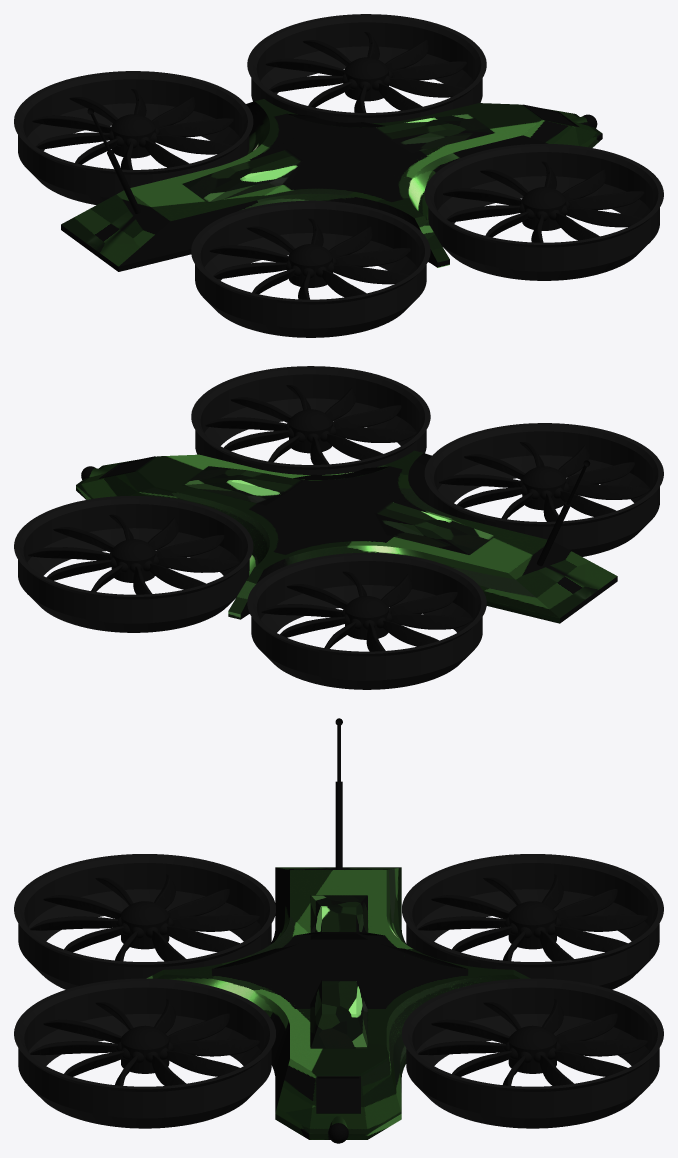
File: parrot-drone.glb
3 renders of one model, top to bottom at view 1: azimuth 30°, elevation 25°; view 2: azimuth 150°, elevation 25°; view 3: azimuth 270°, elevation 25°, orthographic. The views are drawn at different scales.
Visible parts, largest first — view 1: camo_body1_2, motor_props.003_10, motor_props_8, motor_props.002_11, motor_props.001_9, camo_body4_5, camo_body3_4, camo_body_antenna_6, camo_body2_3; view 2: camo_body1_2, motor_props.002_11, motor_props.001_9, motor_props.003_10, motor_props_8, camo_body4_5, camo_body3_4, camo_body_antenna_6; view 3: camo_body1_2, motor_props.001_9, motor_props_8, motor_props.002_11, motor_props.003_10, camo_body3_4, camo_body4_5, camo_body_antenna_6, camo_body2_3.
Boxes of the visible parts, bbox=[...] form: camo_body1_2: bbox=[61, 99, 602, 271]; motor_props.003_10: bbox=[191, 200, 430, 337]; motor_props_8: bbox=[424, 143, 663, 280]; motor_props.002_11: bbox=[14, 71, 253, 204]; motor_props.001_9: bbox=[247, 14, 486, 123]; camo_body4_5: bbox=[182, 149, 302, 202]; camo_body3_4: bbox=[374, 114, 494, 153]; camo_body_antenna_6: bbox=[87, 108, 140, 213]; camo_body2_3: bbox=[287, 113, 384, 127]; camo_body1_2: bbox=[76, 450, 617, 623]; motor_props.002_11: bbox=[247, 552, 486, 689]; motor_props.001_9: bbox=[14, 495, 253, 632]; motor_props.003_10: bbox=[424, 423, 663, 556]; motor_props_8: bbox=[191, 366, 430, 474]; camo_body4_5: bbox=[375, 501, 495, 554]; camo_body3_4: bbox=[183, 466, 303, 505]; camo_body_antenna_6: bbox=[537, 460, 590, 566]; camo_body1_2: bbox=[146, 867, 530, 1139]; motor_props.001_9: bbox=[402, 978, 663, 1128]; motor_props_8: bbox=[14, 978, 275, 1128]; motor_props.002_11: bbox=[402, 854, 663, 989]; motor_props.003_10: bbox=[14, 854, 275, 989]; camo_body3_4: bbox=[310, 979, 367, 1048]; camo_body4_5: bbox=[310, 895, 367, 939]; camo_body_antenna_6: bbox=[335, 718, 342, 869]; camo_body2_3: bbox=[212, 932, 467, 968].
Bounding box in the file's own units: 16.43 × 4.75 × 16.64.
Materials: 16 (2 with a texture image).
